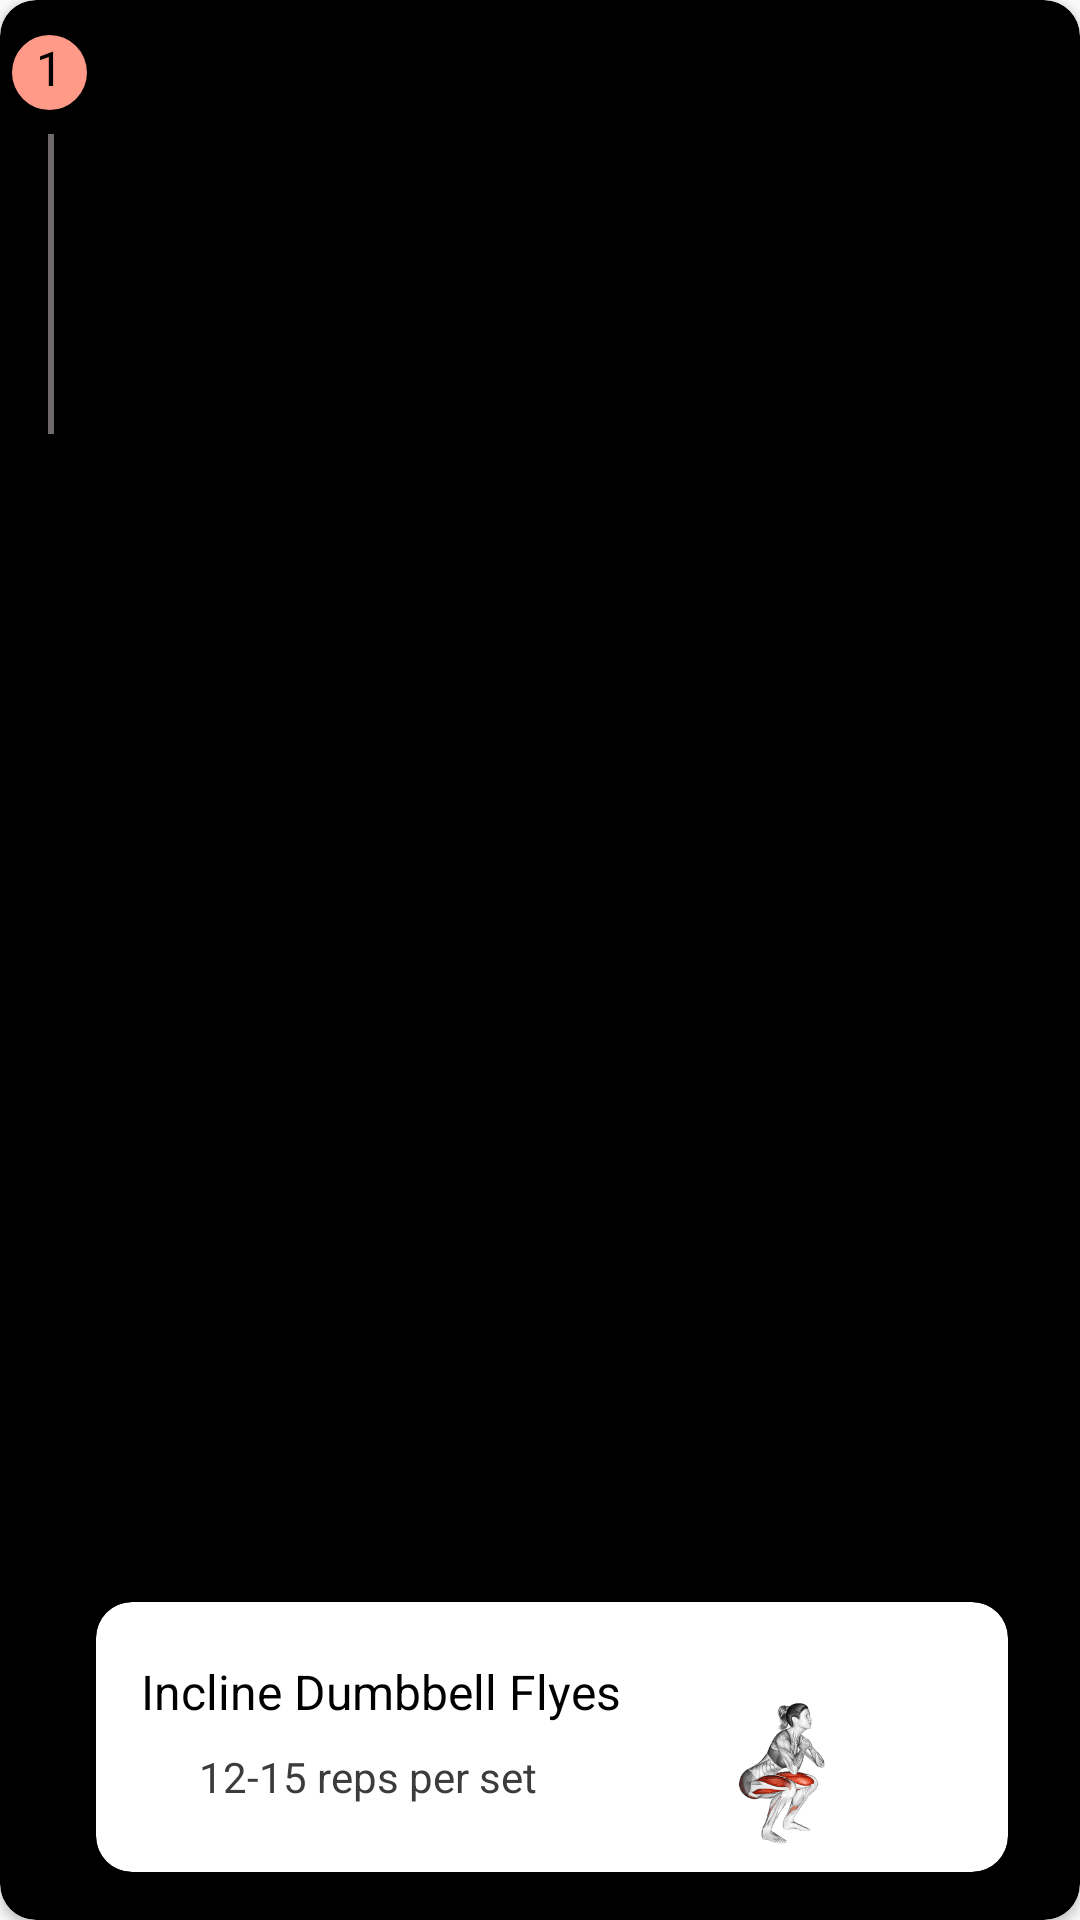

Locate icon controls on the screen. Image size 1080w x 1920h, boxes as (x1, y1, x2, y2).
air squat video: (739, 1703, 825, 1843)
